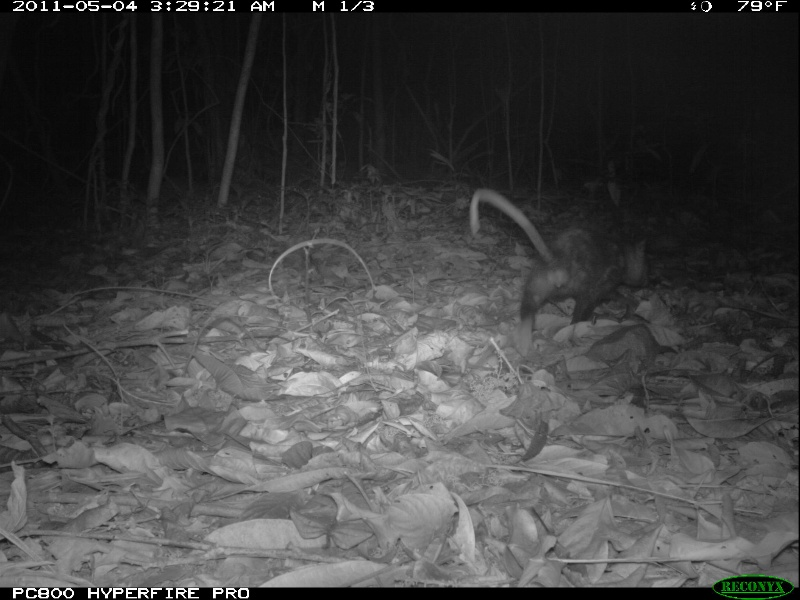opossum: (467, 183, 653, 327)
